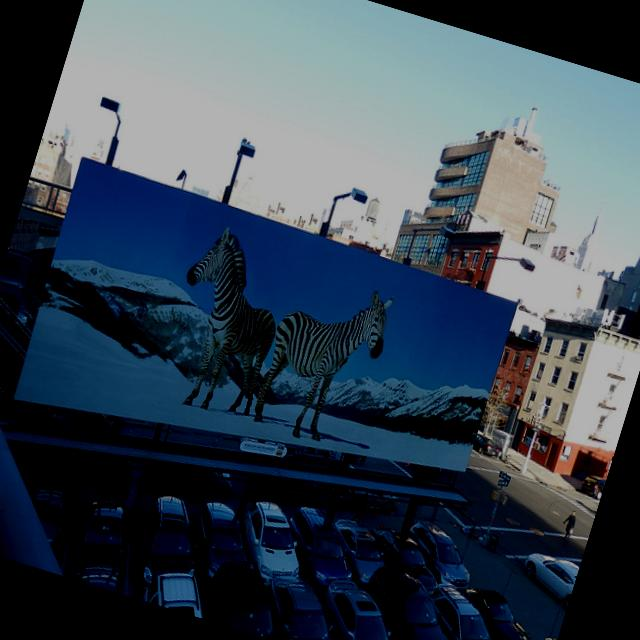Vehicle: (0, 279, 611, 640), (117, 490, 212, 610), (344, 557, 470, 640), (270, 501, 368, 605), (199, 549, 297, 640), (226, 498, 315, 598), (176, 496, 260, 598), (308, 574, 422, 640), (252, 568, 353, 640), (406, 576, 518, 640), (396, 515, 484, 592), (448, 580, 546, 640), (512, 549, 580, 614), (521, 628, 558, 640)
